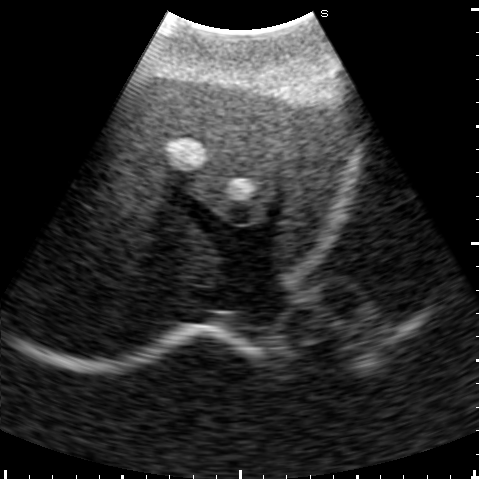S2: (274, 126, 356, 266)
S4: (124, 79, 291, 227)
S7: (28, 245, 198, 358)
S8: (70, 131, 218, 286)
Tumor: (162, 137, 206, 173), (225, 177, 254, 201)
